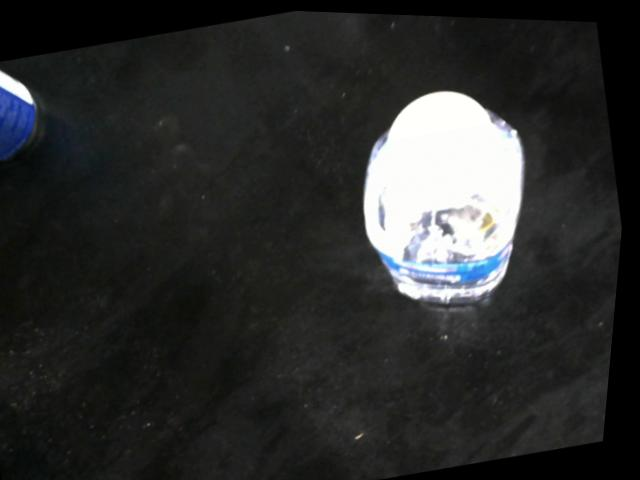bottle: (364, 88, 529, 302)
